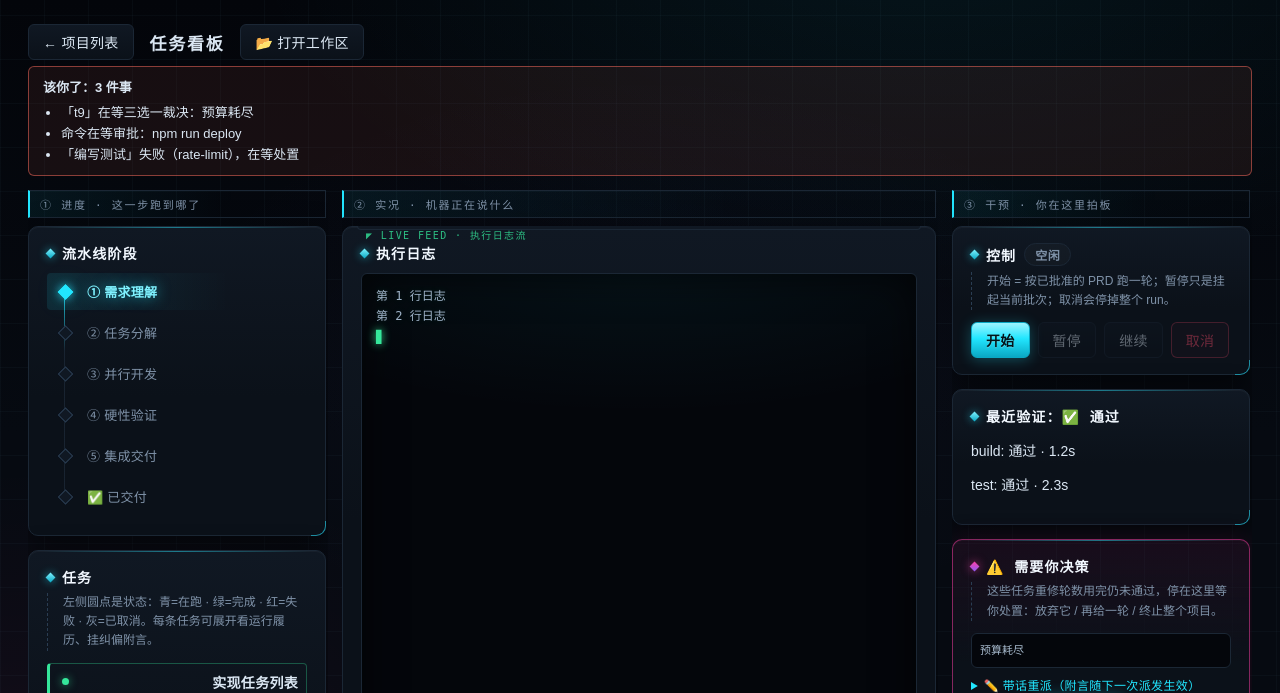
Test: BoardPage › starts orchestration and resolves escalations through the bridge
What coordinates should you click on to do the following:
click the button "开始"
I would click on:
 (1000, 340)
Its box is [971,322,1030,358].
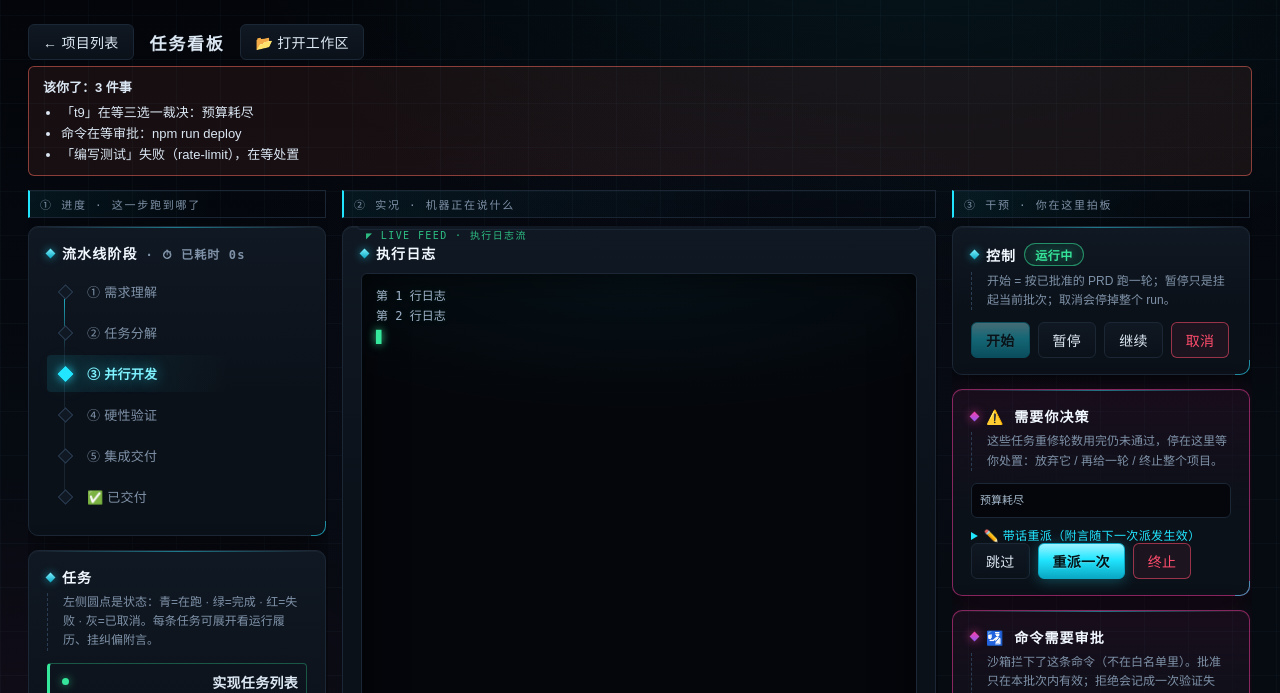
What coordinates should you click on to do the following:
click the button "跳过"
I would click on:
 (1000, 561)
Its box is [971,543,1030,579].
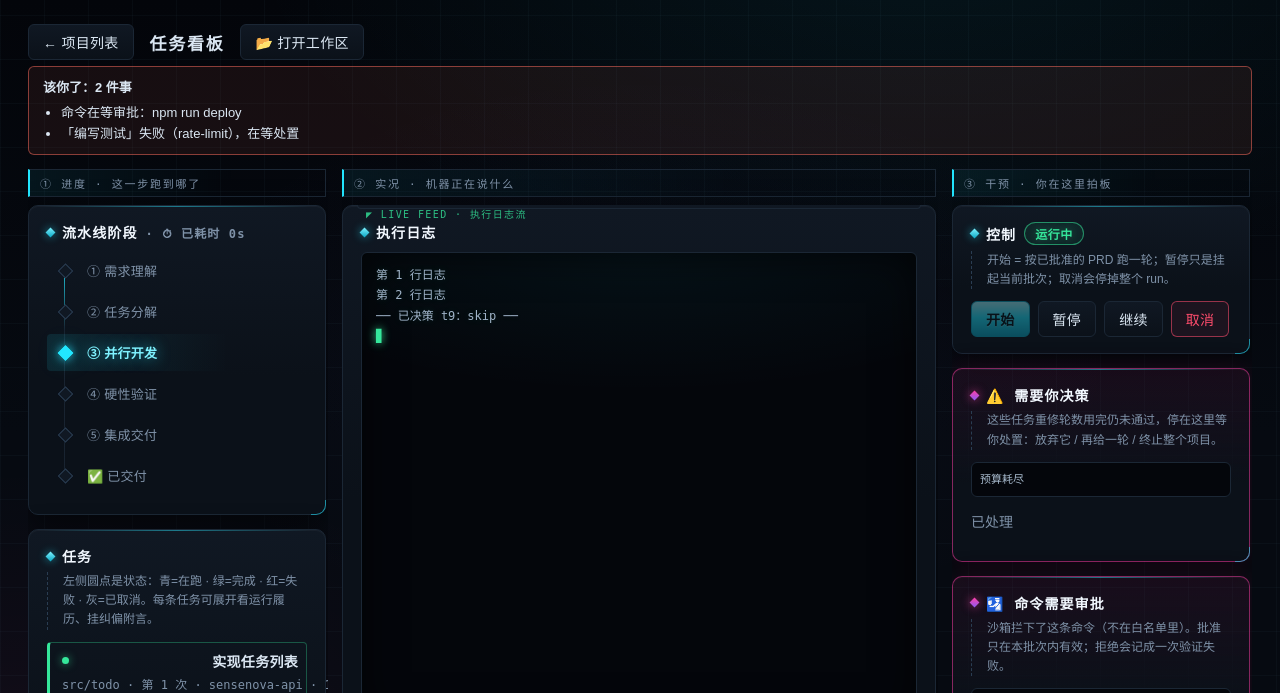
Expected: the text "已处理" is shown, [971,514,1013,530]
